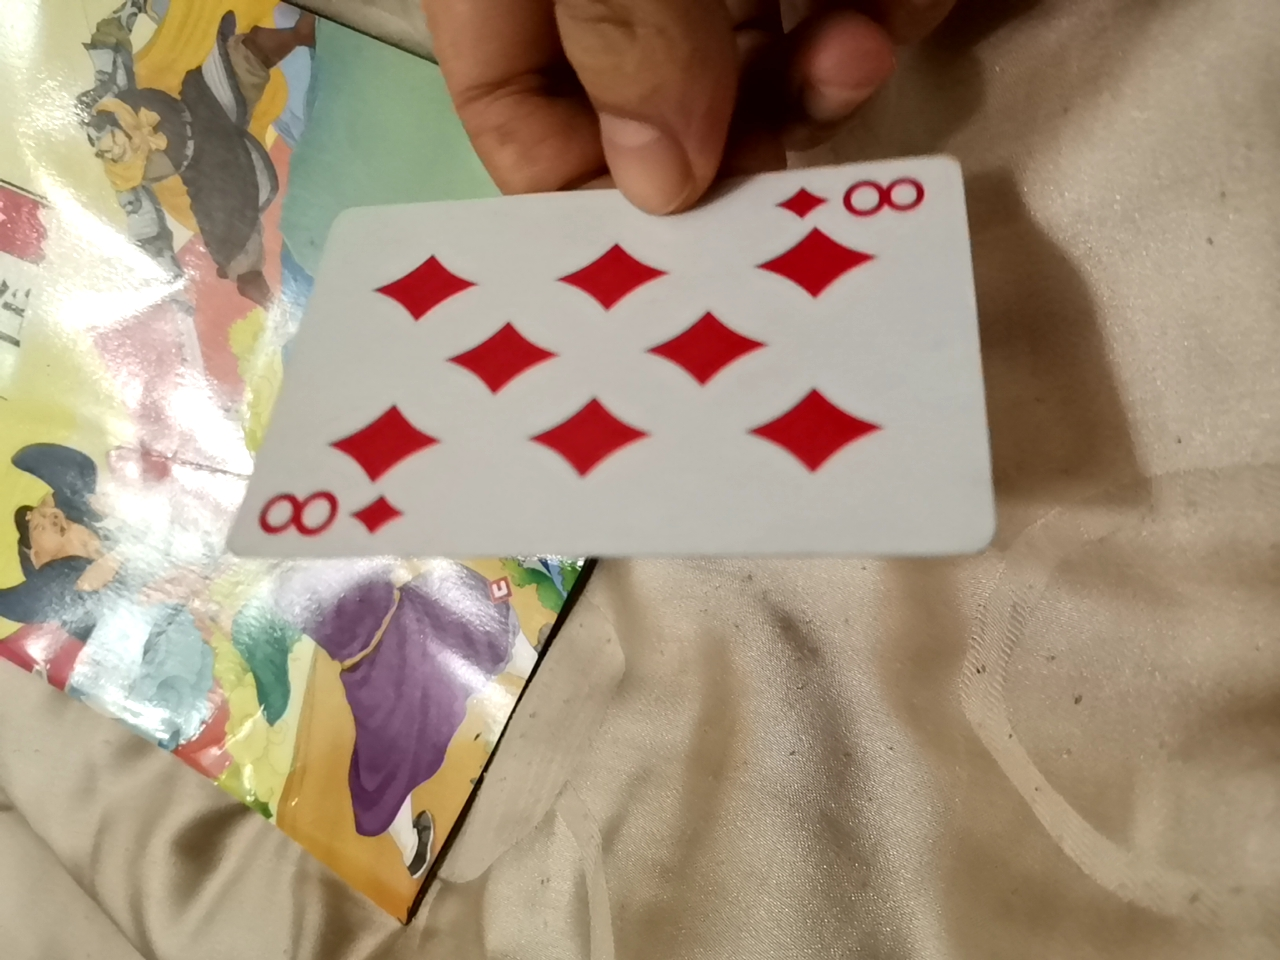fk 8: (231, 168, 1001, 554)
